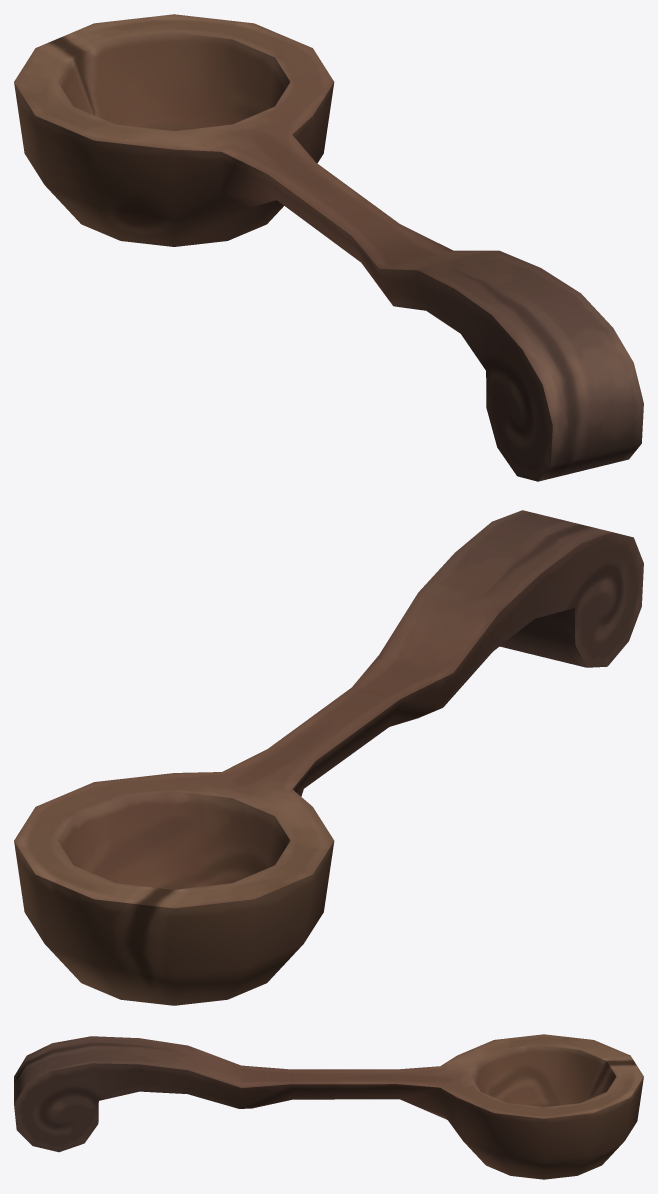
The model's file is ladle.fbx.
The picture shows the model from 3 angles, top to bottom: view 1: azimuth 30°, elevation 25°; view 2: azimuth 150°, elevation 25°; view 3: azimuth 270°, elevation 25°; orthographic projection. The views are drawn at different scales.
Visible parts, largest first — view 1: ladle; view 2: ladle; view 3: ladle.
Part boxes in pixels (box(x1,y1,x2,y2)): ladle: box(14, 14, 643, 481); ladle: box(14, 510, 643, 1005); ladle: box(14, 1034, 643, 1179).
Size of the model in its own units: 43.1 by 28.2 by 136.
